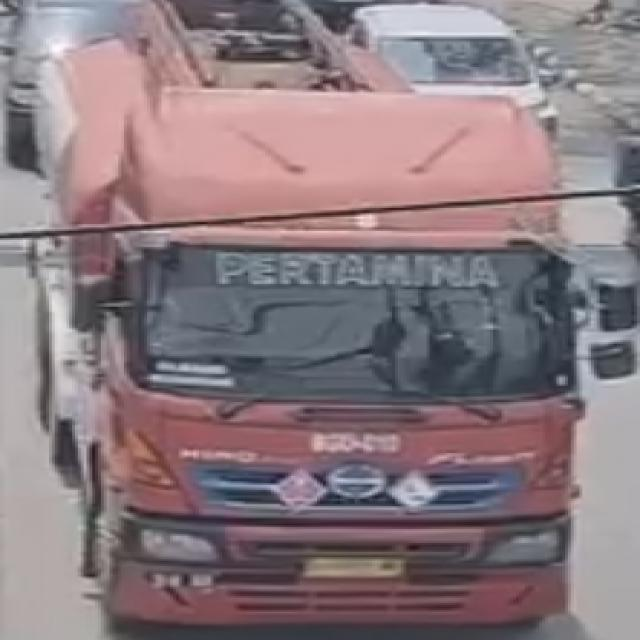Truck: (43, 0, 600, 636)
